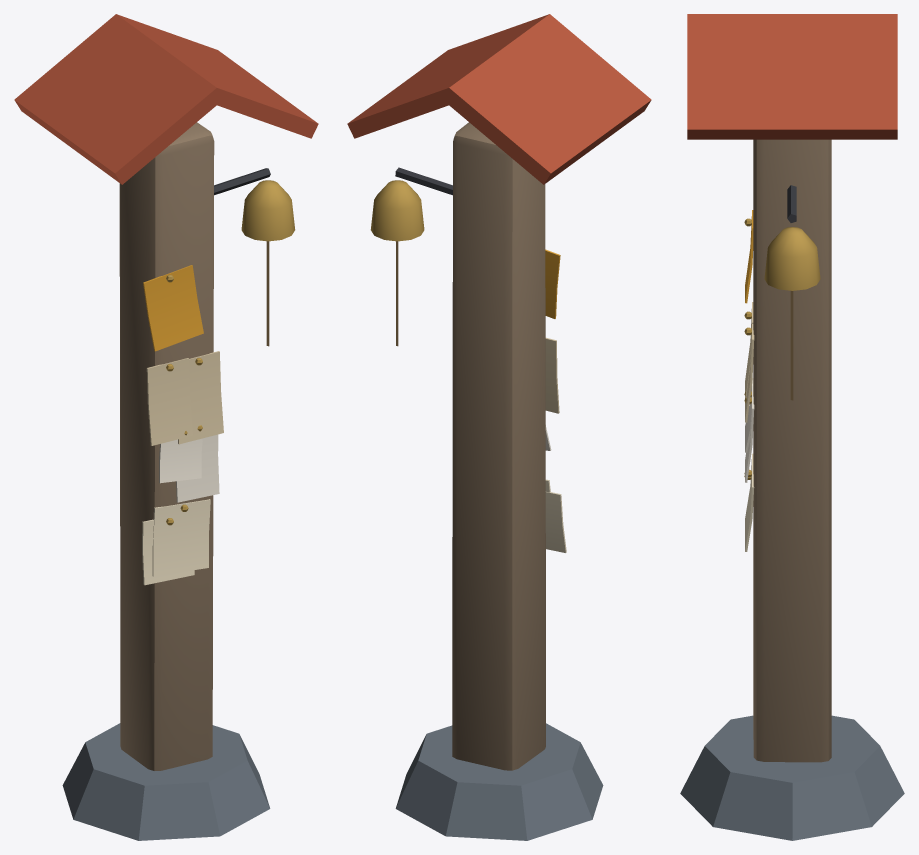
File: deco_message_post.fbx
3 renders of one model, left to right at view 1: azimuth 30°, elevation 25°; view 2: azimuth 150°, elevation 25°; view 3: azimuth 270°, elevation 25°, orthographic. The views are drawn at different scales.
Parts seen in each view (by area): view 1: MessagePost_Post, MessagePost_Cap, MessagePost_Notes, MessagePost_Bell; view 2: MessagePost_Post, MessagePost_Cap, MessagePost_Bell, MessagePost_Notes; view 3: MessagePost_Post, MessagePost_Cap, MessagePost_Bell, MessagePost_Notes.
Part boxes in pixels (bbox=[...]): MessagePost_Post: bbox=[62, 122, 270, 840]; MessagePost_Cap: bbox=[14, 14, 318, 184]; MessagePost_Notes: bbox=[142, 265, 223, 585]; MessagePost_Bell: bbox=[214, 168, 295, 346]; MessagePost_Post: bbox=[395, 122, 603, 840]; MessagePost_Cap: bbox=[347, 14, 651, 184]; MessagePost_Bell: bbox=[370, 167, 452, 346]; MessagePost_Notes: bbox=[545, 249, 566, 552]; MessagePost_Post: bbox=[680, 139, 904, 840]; MessagePost_Cap: bbox=[687, 14, 897, 139]; MessagePost_Bell: bbox=[764, 185, 820, 400]; MessagePost_Notes: bbox=[744, 210, 754, 551].
Size of the model in its own units: 78 by 245 by 64.
